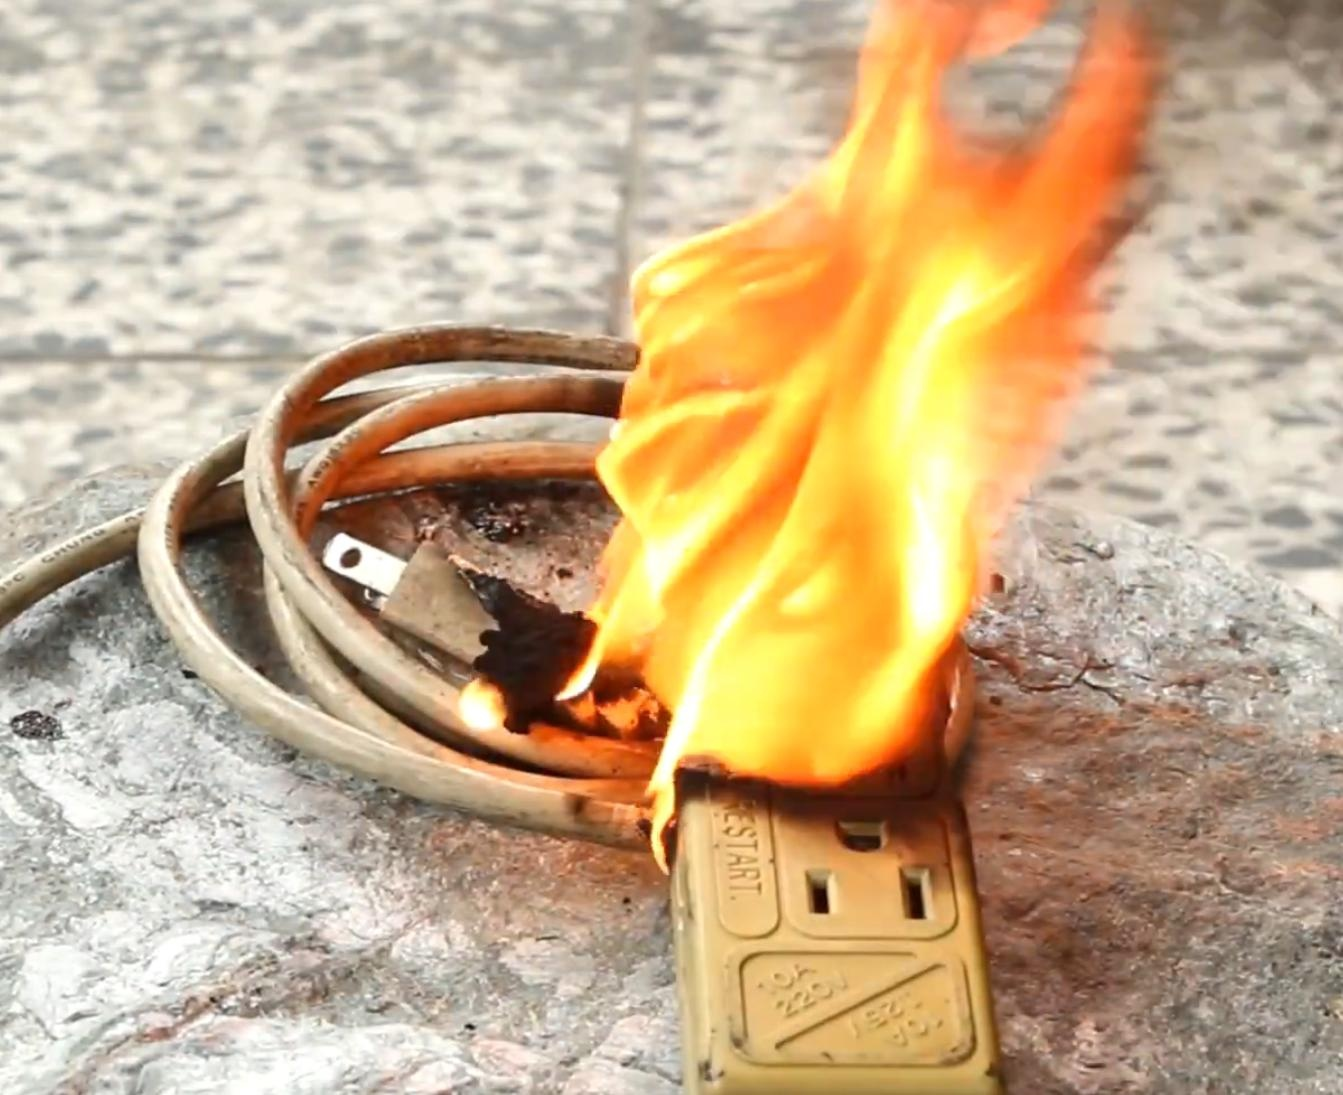fire: (551, 28, 1143, 818)
